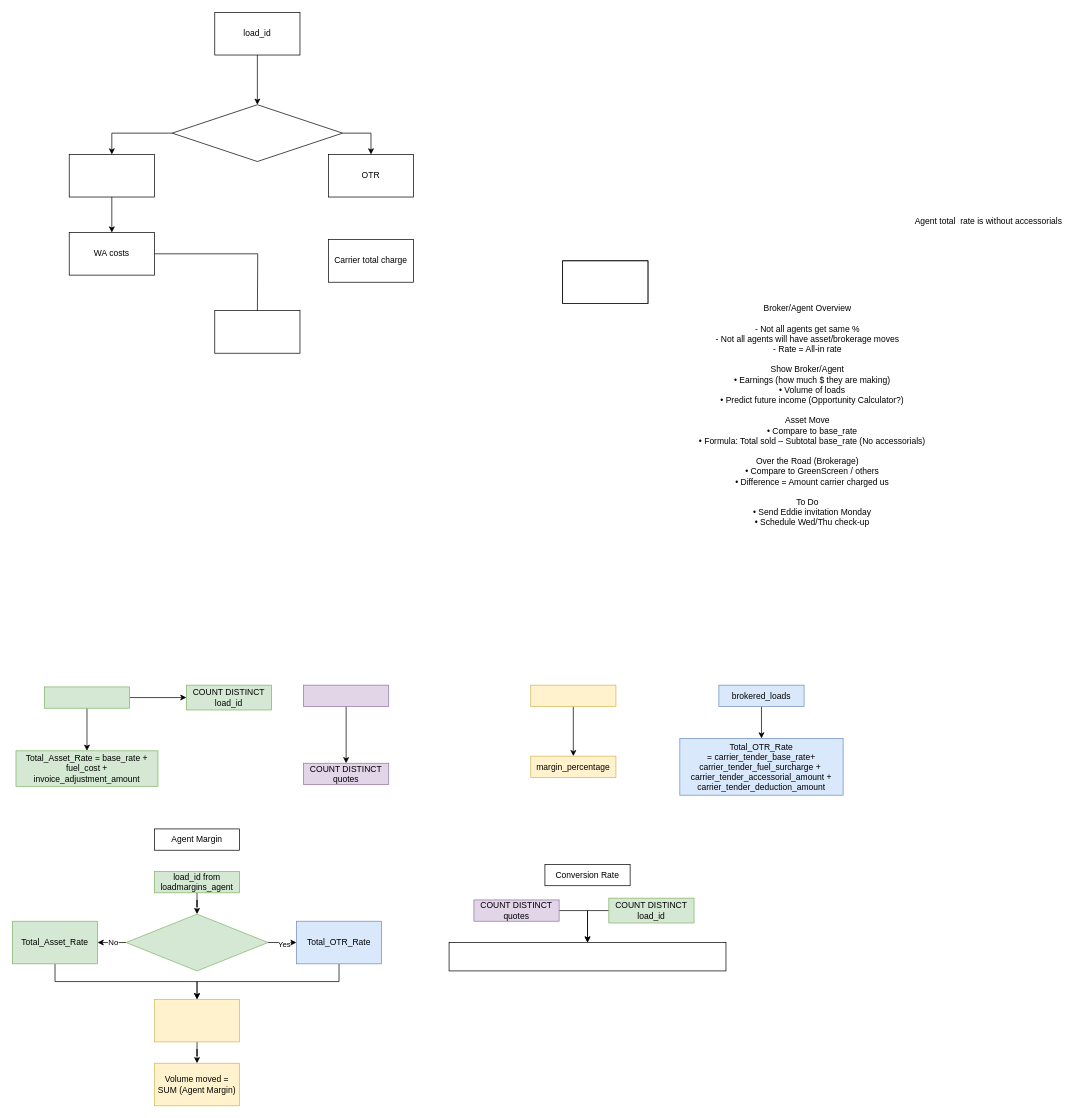
This 1083x1118 diagram has some shape labels left out. Here are the shapes that lost their labels. From the top down, the box of each, then its label:
(171, 104, 343, 162): brokered
(69, 154, 154, 197): Asset
(214, 310, 300, 353): total_rate
(44, 686, 130, 708): loadmargins_agent
(303, 684, 389, 706): quoterecords_agent
(530, 684, 616, 706): agent_margin
(125, 913, 268, 971): loadmargins_agent brokered?
(448, 942, 726, 971): conversion_rate = (COUNT DISTINCT load_id) / (COUNT DISTINCT quotes)
(154, 999, 240, 1042): Agent Margin = Rate * margin_percentage
